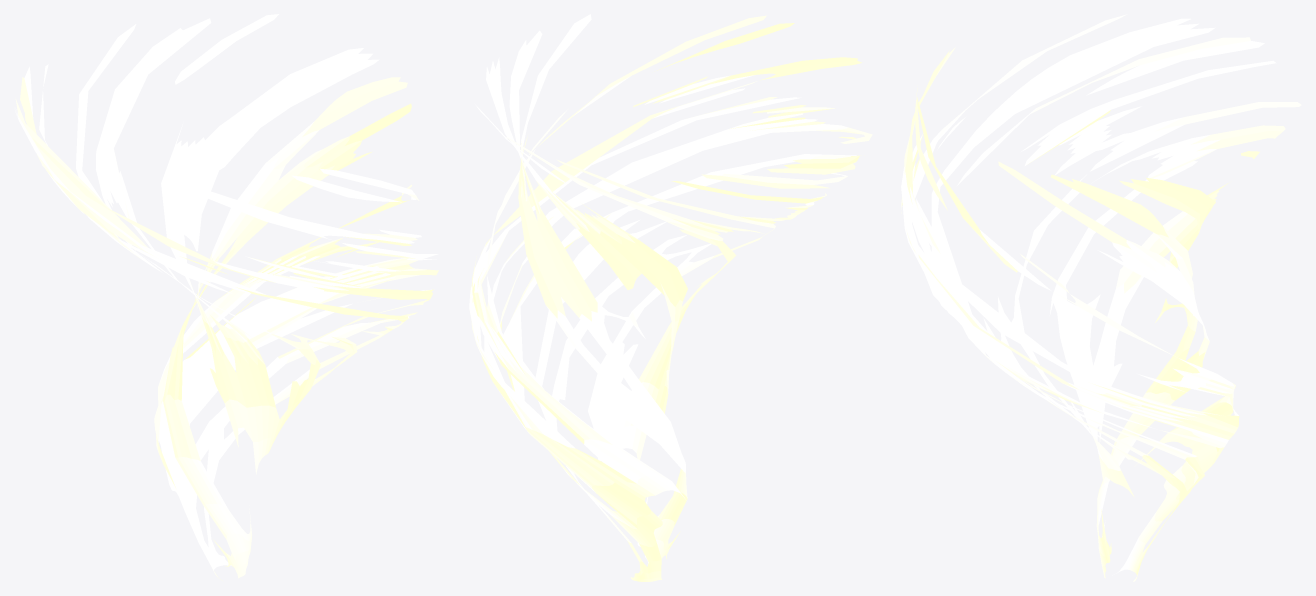
The model's file is Tornado Vfx Blender (2).fbx.
The picture shows the model from 3 angles, left to right: view 1: azimuth 30°, elevation 25°; view 2: azimuth 150°, elevation 25°; view 3: azimuth 270°, elevation 25°; orthographic projection. The views are drawn at different scales.
Parts seen in each view (by area): view 1: Portal 1; view 2: Portal 1; view 3: Portal 1.
Part boxes in pixels (box(x1,y1,x2,y2)): Portal 1: box(15, 14, 438, 580); Portal 1: box(469, 14, 872, 581); Portal 1: box(901, 14, 1301, 581).
Bounding box in the file's own units: 358 × 457 × 346.
